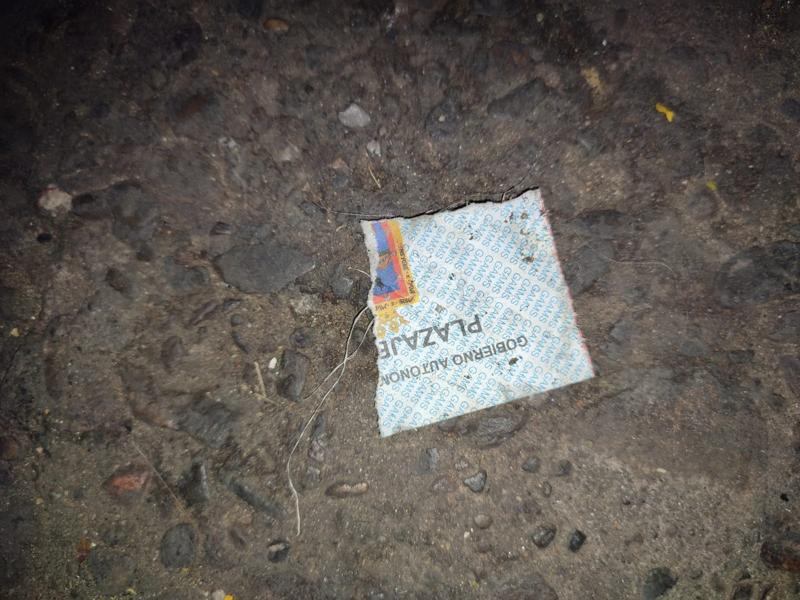papel: (360, 191, 594, 438)
